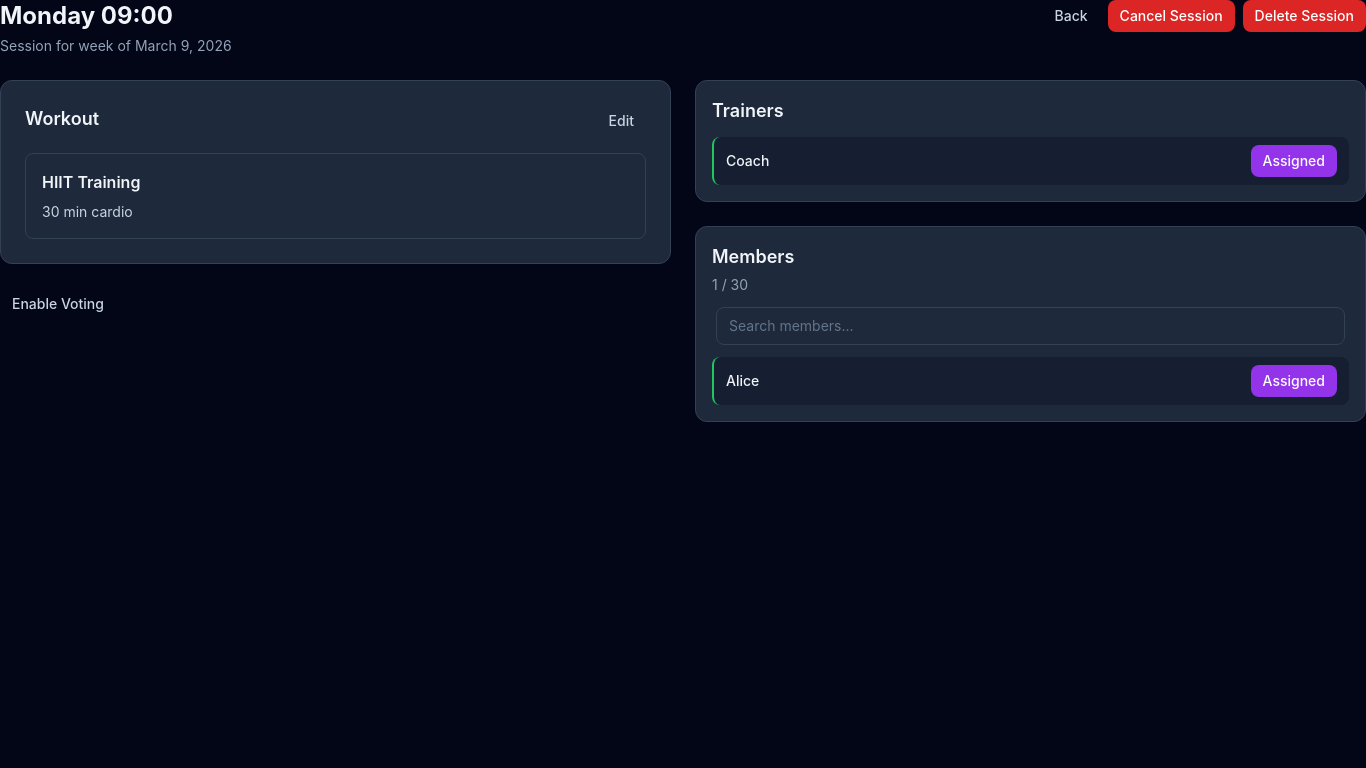
Test: SessionDetailClient — Confirmation Modals › cancel session modal › closes cancel modal when Cancel (dismiss) button is clicked
This screenshot has width=1366, height=768.
Click the button "Cancel Session": (1171, 16) [1108,0,1235,32]
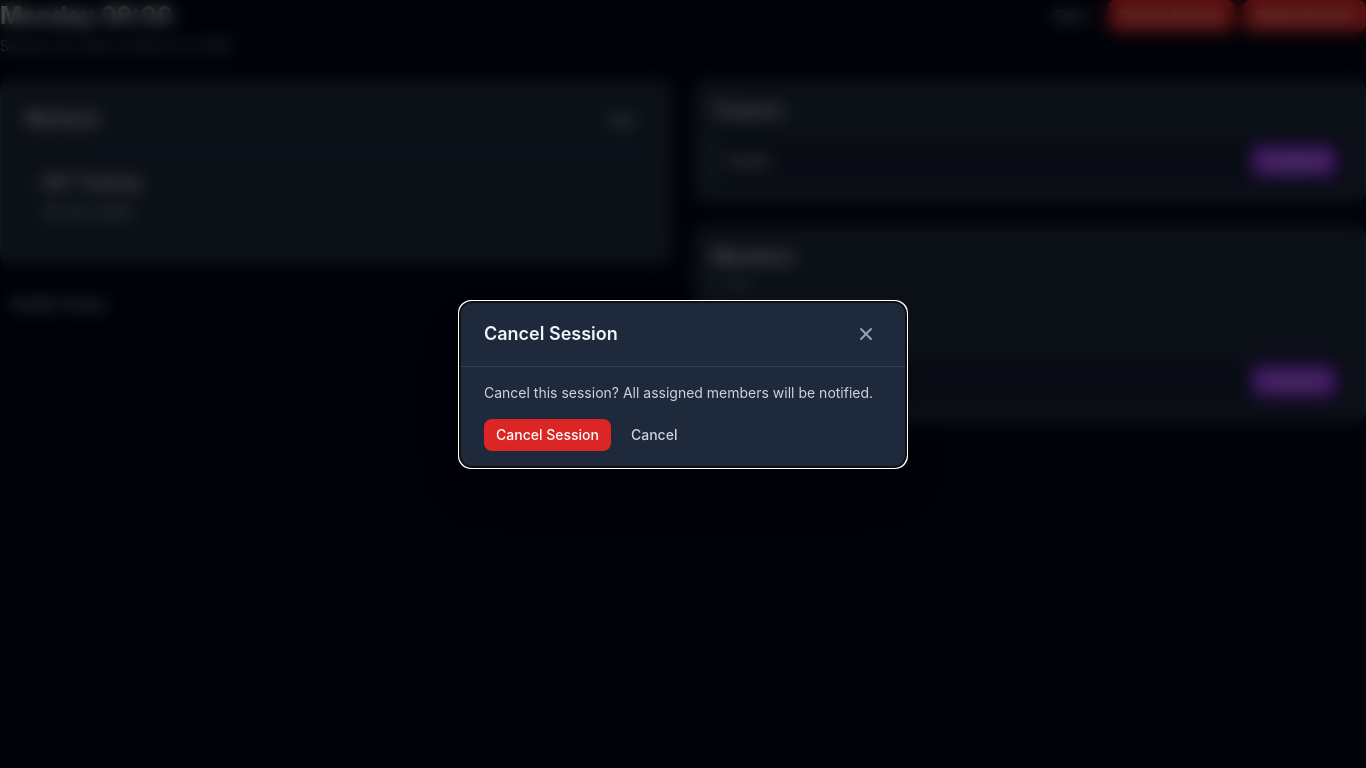
Expected: the dialog is shown, [459,300,907,468]
Note: Click the "Cancel" dismiss button inside the modal
Click the button "Cancel": (654, 434) [619,418,690,450]
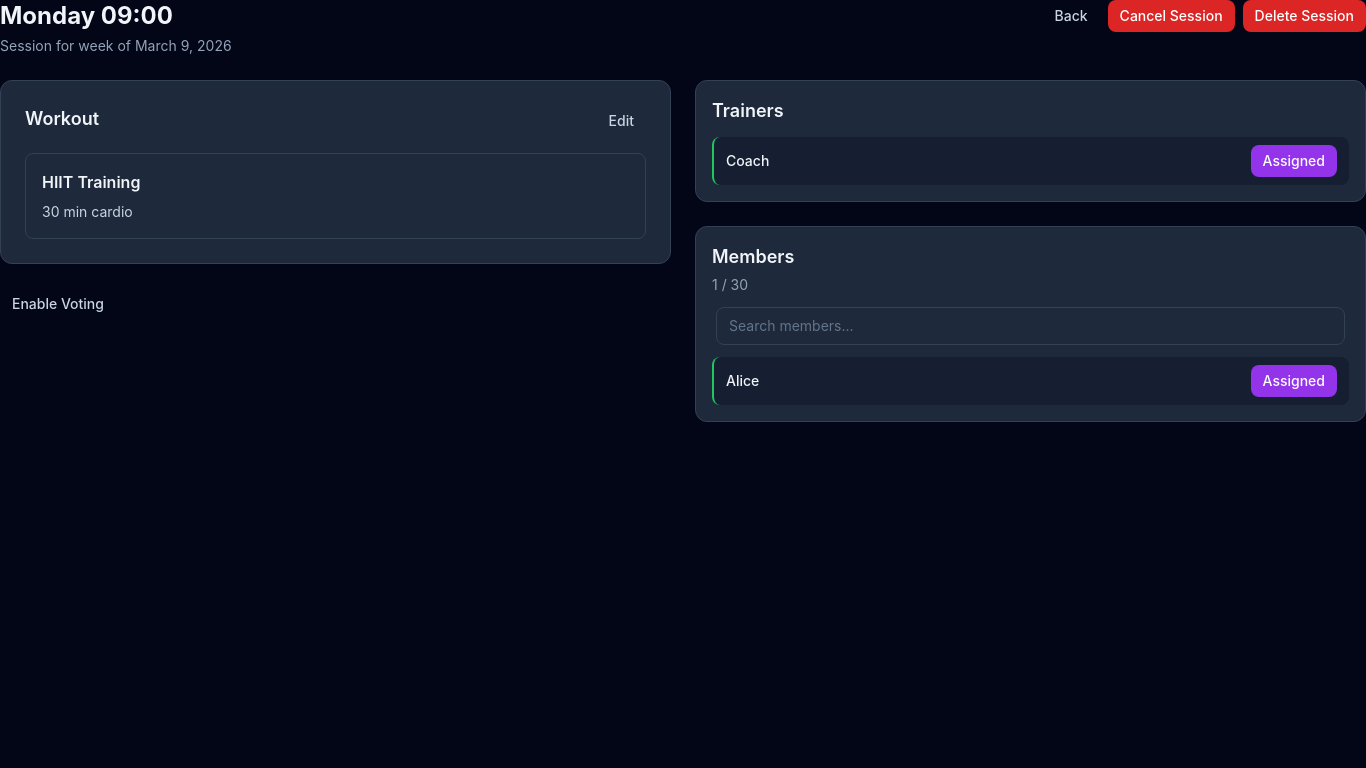
Expected: the dialog is gone
